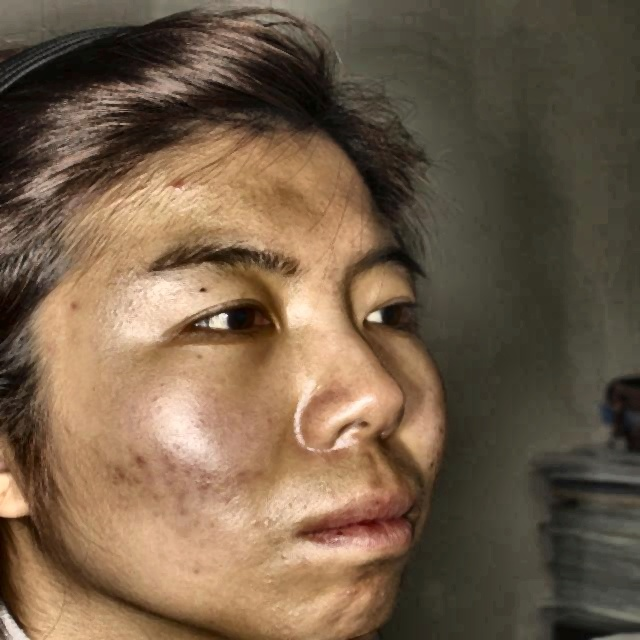comedone: (126, 445, 152, 485), (166, 171, 197, 197)
